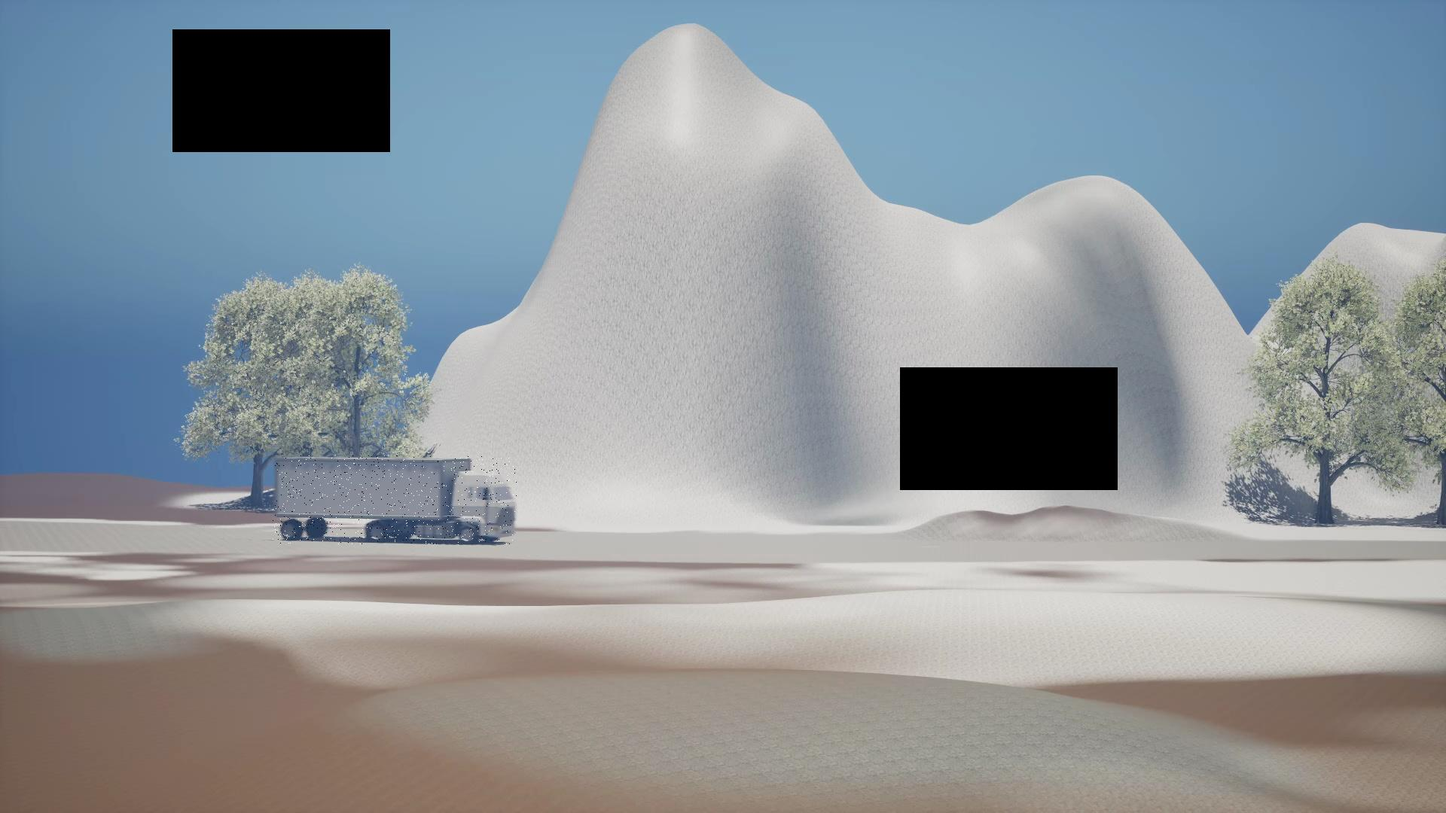truck: (272, 455, 517, 544)
